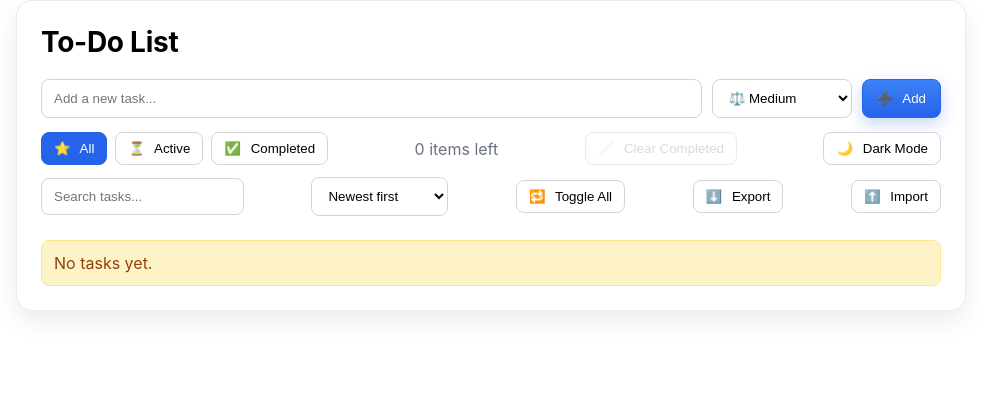
Test case: undo delete restores task
The width and height of the screenshot is (983, 394).
Type "Undo me" into the field with placeholder "Add a new task..." at (371, 98), box [41,79,702,118]
Then press Enter
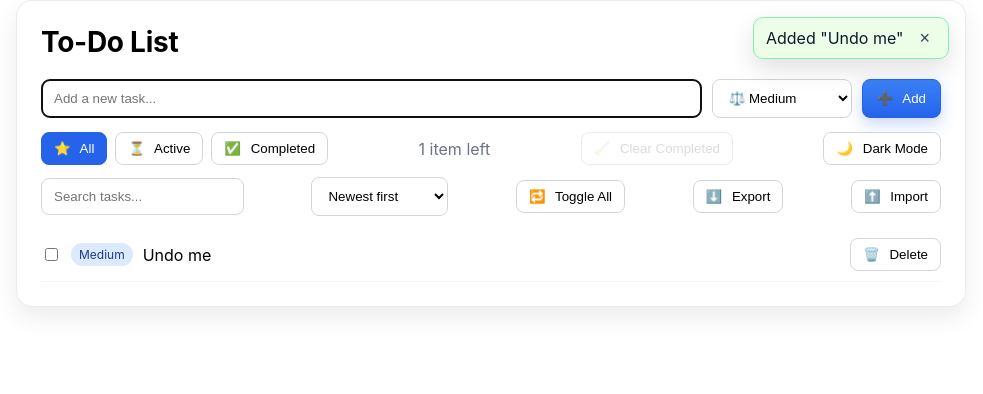
Click the button "🗑️ Delete" at (896, 254), box [850,238,941,271]
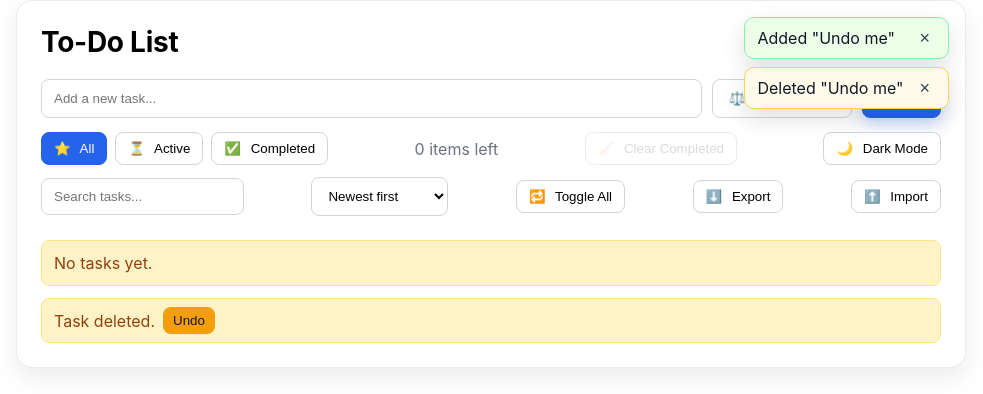
Click the button "Undo" at (189, 320), box [163,307,215,334]
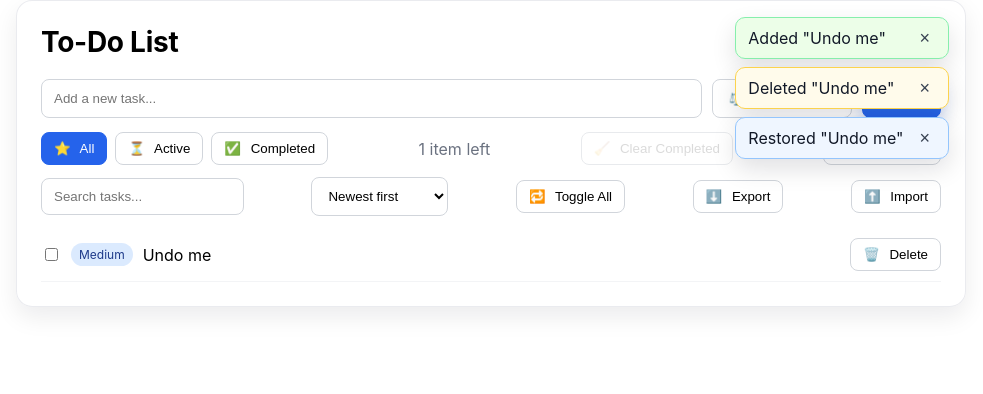
Expected: the text "Undo me" is shown, [143,244,211,264]
